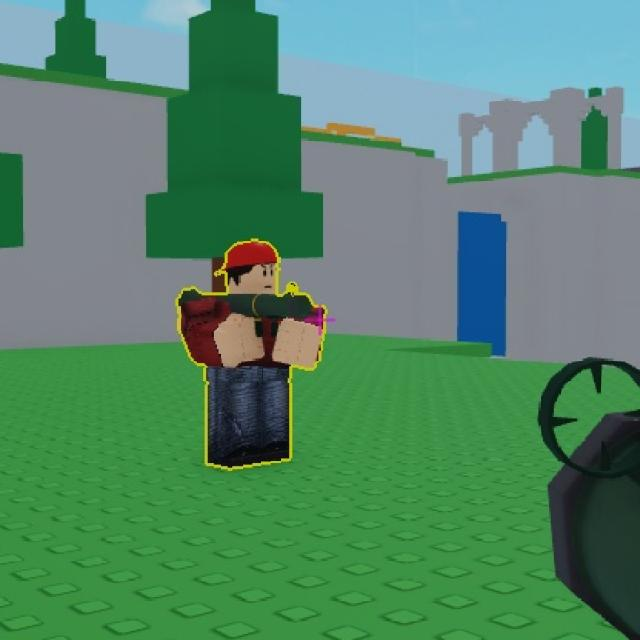player: (193, 230, 302, 474)
